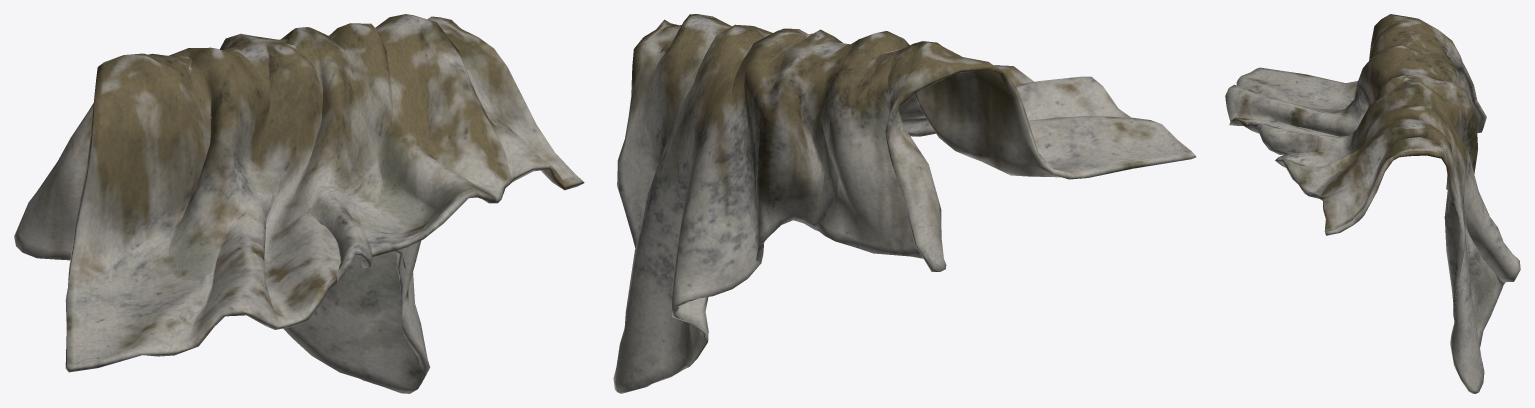
The model's file is SM_Blanket.fbx.
The picture shows the model from 3 angles, left to right: view 1: azimuth 30°, elevation 25°; view 2: azimuth 150°, elevation 25°; view 3: azimuth 270°, elevation 25°; orthographic projection. The views are drawn at different scales.
Parts seen in each view (by area): view 1: SM_Blanket_LOD0; view 2: SM_Blanket_LOD0; view 3: SM_Blanket_LOD0.
Boxes of the visible parts, x1,y1,x2,y2 form: SM_Blanket_LOD0: (14, 14, 584, 393); SM_Blanket_LOD0: (613, 14, 1195, 393); SM_Blanket_LOD0: (1225, 14, 1520, 393).
Bounding box in the file's own units: 95.79 × 70.11 × 72.69.
